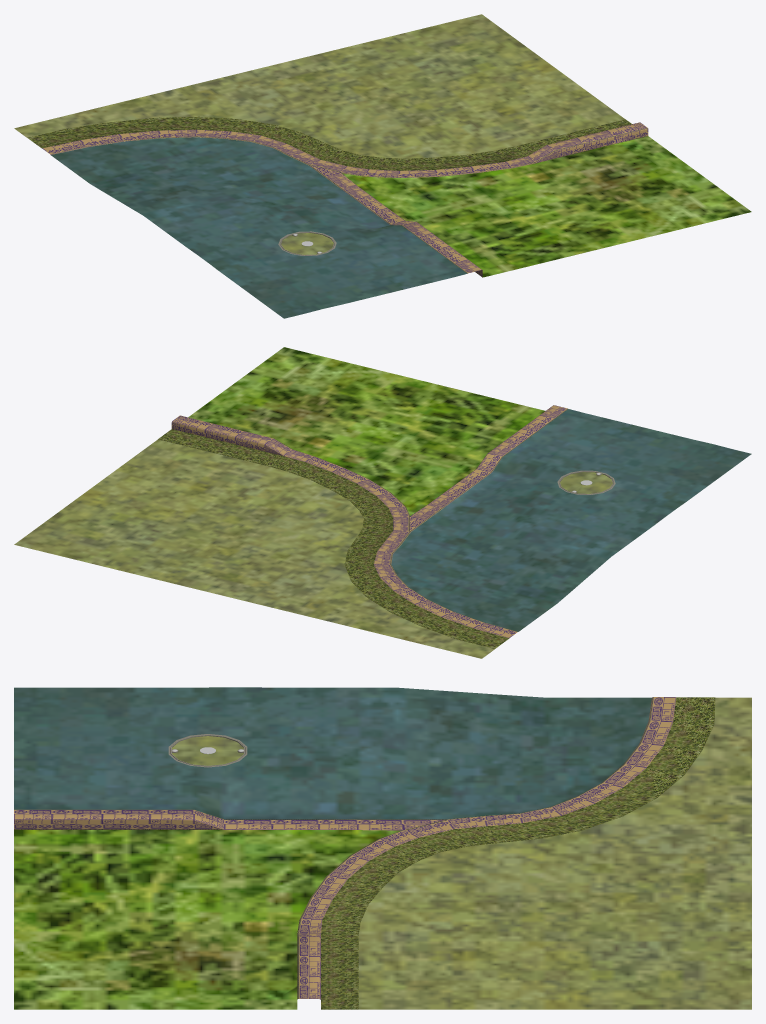
3 renders of one model, top to bottom at view 1: azimuth 30°, elevation 25°; view 2: azimuth 150°, elevation 25°; view 3: azimuth 270°, elevation 25°, orthographic. The views are drawn at different scales.
Visible parts, largest first — view 1: Joint_0_Object_1, Joint_0_Object_2, Joint_0_Object_3, Joint_0_Object_6, Joint_0_Object_4, Joint_0_Object_5, Joint_0_Object_8; view 2: Joint_0_Object_1, Joint_0_Object_2, Joint_0_Object_3, Joint_0_Object_6, Joint_0_Object_4, Joint_0_Object_5, Joint_0_Object_8; view 3: Joint_0_Object_1, Joint_0_Object_2, Joint_0_Object_3, Joint_0_Object_6, Joint_0_Object_4, Joint_0_Object_5, Joint_0_Object_8.
Part boxes in pixels (box(x1,y1,x2,y2)): Joint_0_Object_1: box(14, 14, 625, 158); Joint_0_Object_2: box(51, 137, 466, 318); Joint_0_Object_3: box(342, 136, 751, 277); Joint_0_Object_6: box(28, 116, 631, 170); Joint_0_Object_4: box(42, 122, 648, 177); Joint_0_Object_5: box(309, 165, 482, 277); Joint_0_Object_8: box(281, 233, 333, 254); Joint_0_Object_1: box(14, 439, 494, 658); Joint_0_Object_2: box(391, 409, 751, 631); Joint_0_Object_3: box(188, 347, 544, 515); Joint_0_Object_6: box(158, 429, 509, 648); Joint_0_Object_4: box(171, 415, 517, 638); Joint_0_Object_5: box(409, 405, 567, 531); Joint_0_Object_8: box(560, 472, 612, 493); Joint_0_Object_1: box(358, 697, 751, 1009); Joint_0_Object_2: box(14, 687, 651, 819); Joint_0_Object_3: box(14, 830, 400, 1009); Joint_0_Object_6: box(321, 697, 715, 1009); Joint_0_Object_4: box(297, 697, 676, 999); Joint_0_Object_5: box(14, 809, 446, 830); Joint_0_Object_8: box(172, 736, 243, 765).
Size of the model in its own units: 10000 by 169 by 10000.
